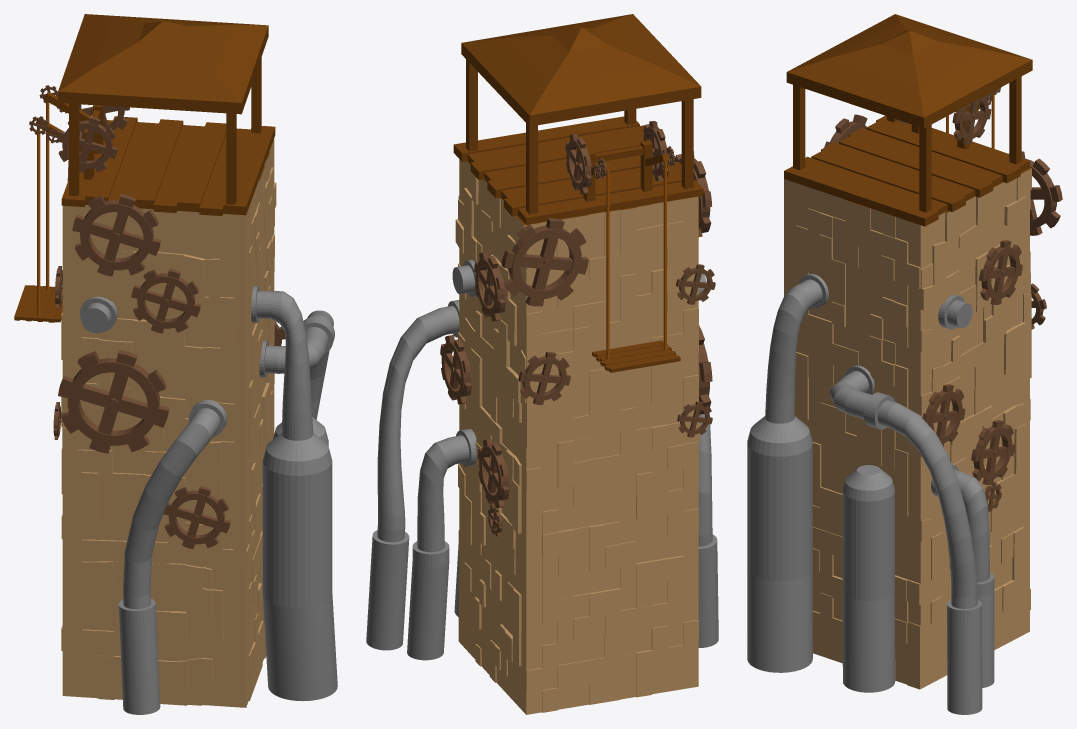
The model's file is Train_Tower.fbx.
The picture shows the model from 3 angles, left to right: view 1: azimuth 30°, elevation 25°; view 2: azimuth 150°, elevation 25°; view 3: azimuth 270°, elevation 25°; orthographic projection. The views are drawn at different scales.
Parts seen in each view (by area): view 1: Cube.135, Cylinder.257, Cube.230, Cylinder.258, Cylinder.217, Cylinder.220, Cylinder.216, Cylinder.222, Cylinder.255, Cylinder.229, Cube.211, Cylinder.254 (+7 smaller); view 2: Cube.135, Cube.230, Cylinder.225, Cylinder.224, Cylinder.213, Cylinder.258, Cube.211, Cylinder.212, Cylinder.205, Cylinder.201, Cylinder.204, Cylinder.228 (+12 smaller); view 3: Cube.135, Cylinder.257, Cube.230, Cylinder.256, Cylinder.225, Cylinder.224, Cylinder.255, Cylinder.205, Cylinder.201, Cylinder.213, Cylinder.204, Cylinder.228 (+5 smaller).
Boxes of the visible parts, x1,y1,x2,y2 form: Cube.135: [61, 116, 276, 707]; Cylinder.257: [251, 286, 337, 701]; Cube.230: [58, 14, 268, 114]; Cylinder.258: [118, 400, 227, 714]; Cylinder.217: [58, 349, 169, 453]; Cylinder.220: [72, 194, 160, 276]; Cylinder.216: [131, 268, 200, 333]; Cylinder.222: [163, 486, 230, 549]; Cylinder.255: [259, 316, 334, 377]; Cylinder.229: [57, 116, 117, 172]; Cube.211: [14, 285, 62, 322]; Cylinder.254: [80, 296, 117, 333]; Cube.135: [453, 116, 703, 714]; Cube.230: [461, 14, 701, 126]; Cylinder.225: [366, 305, 459, 650]; Cylinder.224: [407, 428, 476, 660]; Cylinder.213: [501, 218, 588, 306]; Cylinder.258: [698, 413, 718, 647]; Cube.211: [592, 340, 680, 372]; Cylinder.212: [518, 352, 570, 404]; Cylinder.205: [474, 252, 505, 321]; Cylinder.201: [477, 439, 509, 508]; Cylinder.204: [440, 335, 471, 404]; Cylinder.228: [565, 133, 592, 194]; Cube.135: [784, 115, 1031, 689]; Cylinder.257: [747, 273, 828, 672]; Cube.230: [786, 14, 1032, 128]; Cylinder.256: [842, 465, 895, 692]; Cylinder.225: [863, 400, 982, 714]; Cylinder.224: [931, 464, 994, 687]; Cylinder.255: [830, 365, 895, 429]; Cylinder.205: [979, 240, 1022, 304]; Cylinder.201: [971, 420, 1014, 484]; Cylinder.213: [1009, 151, 1062, 235]; Cylinder.204: [922, 384, 965, 446]; Cylinder.228: [952, 94, 991, 144].
Size of the model in its own units: 3072 by 6091 by 2885.
